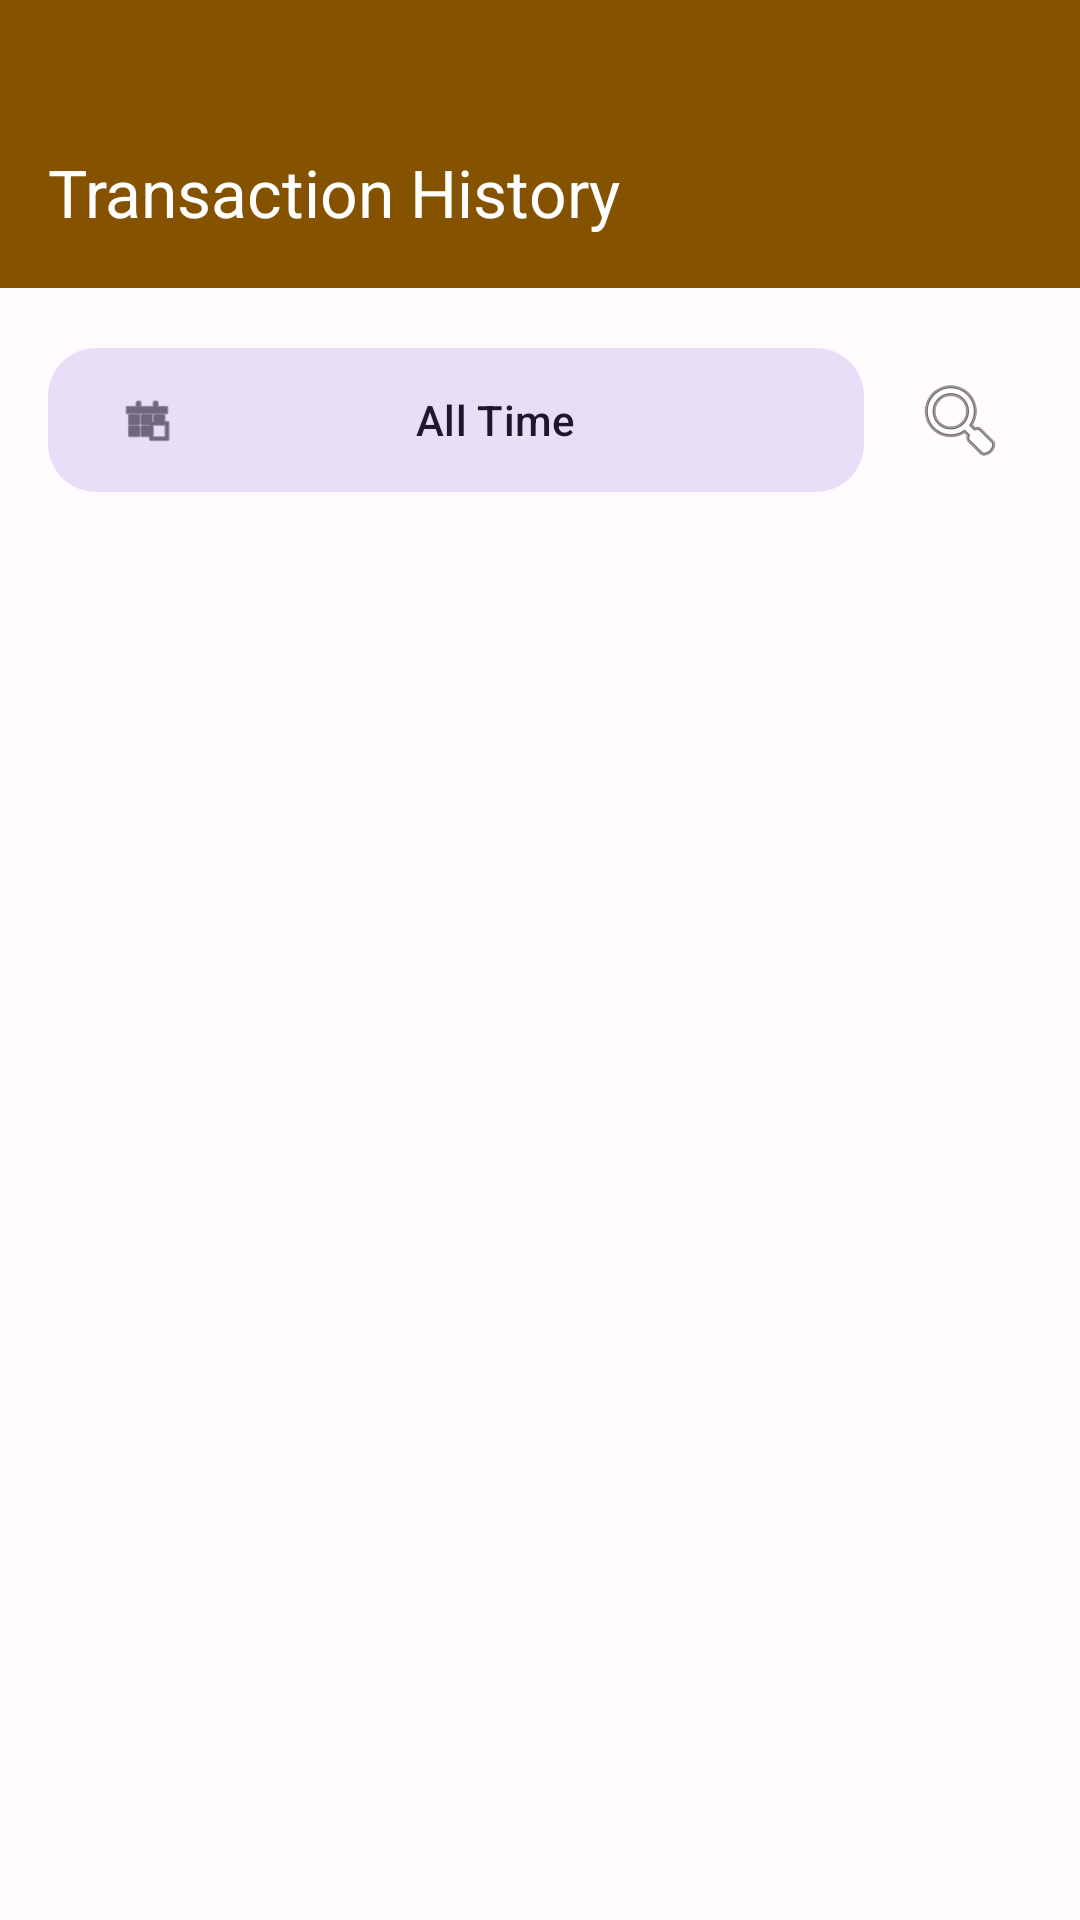

Icons on this 1080x1920 Android screen, each with its box as (x1, y1, x2, y2):
Search transactions: (924, 385, 996, 456)
